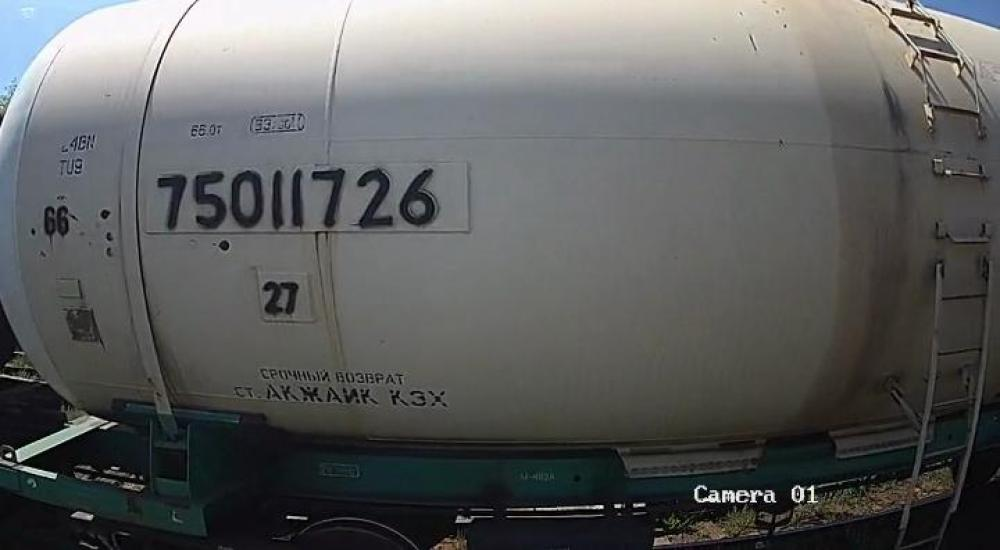Wagon-number: (150, 163, 448, 232)
